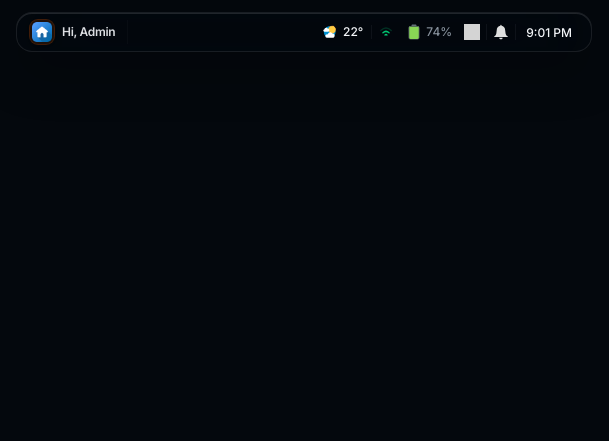
StatusBar › renders weather, wifi, and battery details from system metrics
Click the button named "Weather".
click(343, 32)  # box [315,20,371,44]
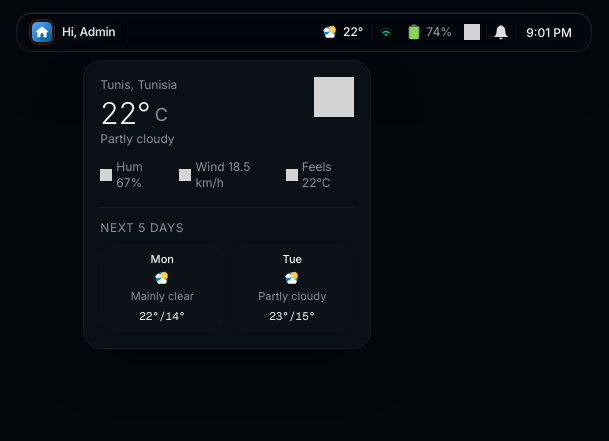
Now the text "Partly cloudy" below "Tunis, Tunisia" is shown, box [100,131,175,146]
Now the text "Next 5 Days" is shown, box [100,220,184,235]
Now the text "Mainly clear" is shown, box [131,289,194,305]
Click the button named "WiFi networks".
click(386, 32)  # box [372,18,400,46]
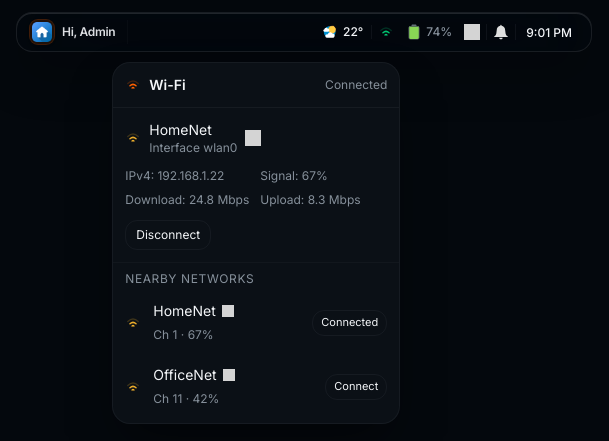
Now the text "Nearby Networks" is shown, box [125,271,254,286]
Now the 1st text "HomeNet" is shown, box [149,121,212,138]
Now the text "OfficeNet" is shown, box [153,365,217,385]
Click the button named "Battery status".
click(429, 32)  # box [400,18,458,46]
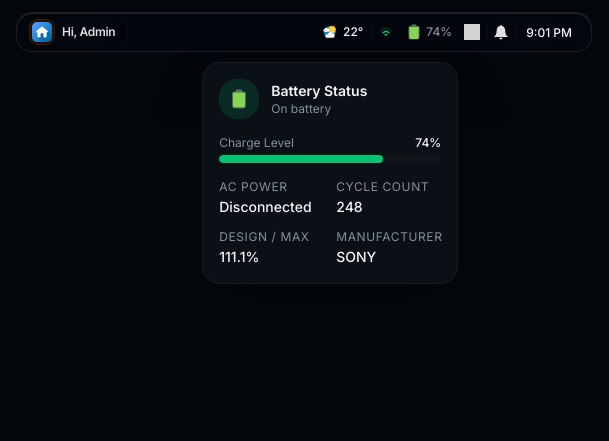
Now the text "Battery Status" is shown, box [271,81,367,101]
Now the text "AC Power" is shown, box [219,179,288,194]
Now the text "Cycle Count" is shown, box [336,179,441,195]
